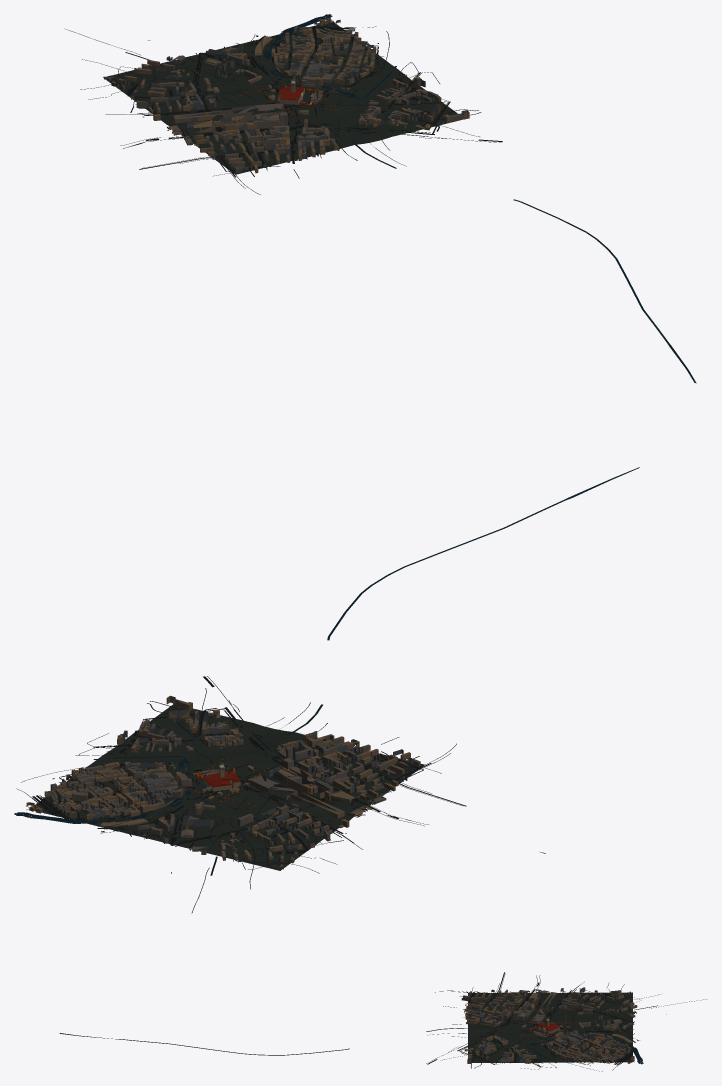
File: SpandauStrike_Rathaus_FULLMAP_Visible.obj
3 renders of one model, top to bottom at view 1: azimuth 30°, elevation 25°; view 2: azimuth 150°, elevation 25°; view 3: azimuth 270°, elevation 25°, orthographic. The views are drawn at different scales.
Visible parts, largest first — view 1: REAL_DGM_Terrain, FULLMAP_SurroundingBuildings, REAL_OSM_Roads, FULLMAP_Water; view 2: FULLMAP_SurroundingBuildings, REAL_DGM_Terrain, REAL_OSM_Roads, FULLMAP_Water; view 3: FULLMAP_SurroundingBuildings, REAL_DGM_Terrain, REAL_OSM_Roads, FULLMAP_Water.
Boxes of the visible parts, box(x1,y1,x2,y2) form: REAL_DGM_Terrain: box(103, 21, 460, 174); FULLMAP_SurroundingBuildings: box(103, 16, 469, 173); REAL_OSM_Roads: box(64, 20, 502, 194); FULLMAP_Water: box(264, 14, 696, 383); FULLMAP_SurroundingBuildings: box(26, 695, 420, 869); REAL_DGM_Terrain: box(29, 704, 424, 870); REAL_OSM_Roads: box(16, 676, 545, 913); FULLMAP_Water: box(14, 467, 639, 823); FULLMAP_SurroundingBuildings: box(461, 987, 637, 1063); REAL_DGM_Terrain: box(468, 992, 632, 1062); REAL_OSM_Roads: box(426, 972, 707, 1071); FULLMAP_Water: box(59, 1028, 643, 1064).
Bounding box in the file's own units: 1855 × 88.35 × 4201.
